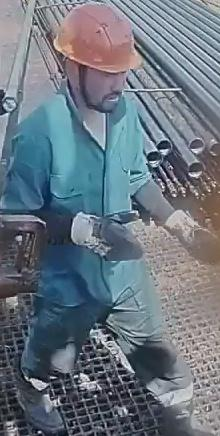gloves: (64, 211, 142, 261), (162, 208, 219, 264)
helmet: (52, 1, 142, 77)
vest: (17, 88, 162, 300)
